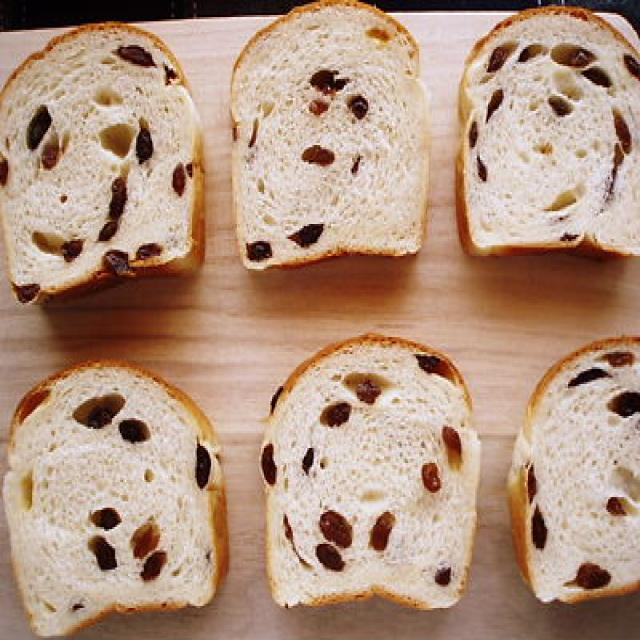面包点心: (0, 8, 640, 640)
